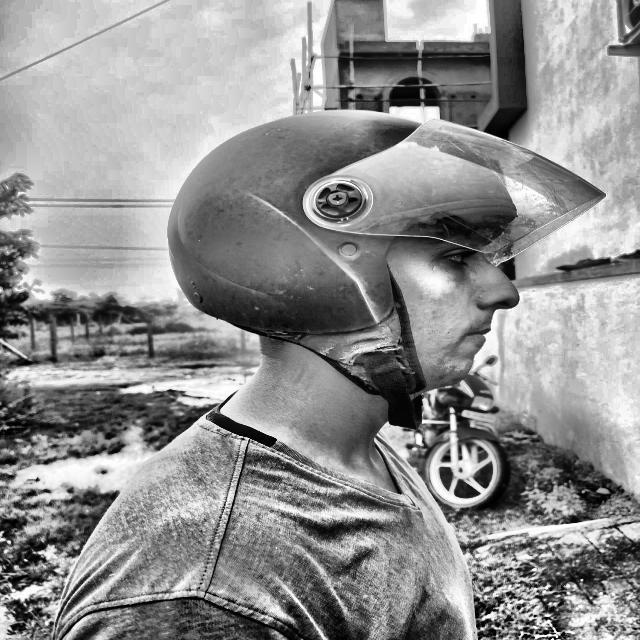Helmet: (157, 102, 619, 431)
